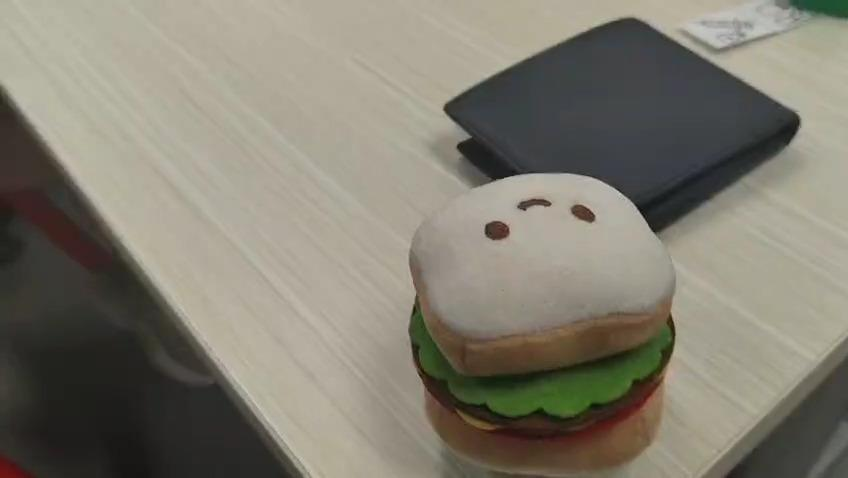objects: (407, 170, 678, 473)
